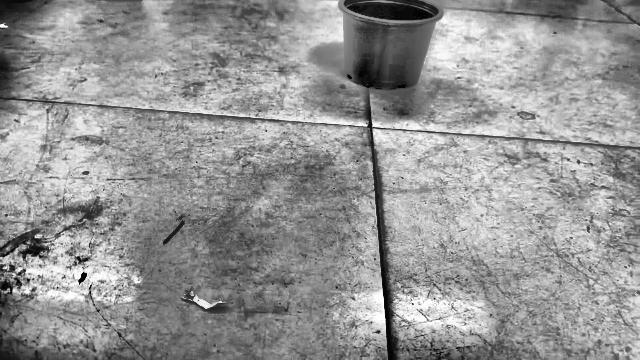pot: (339, 0, 442, 89)
